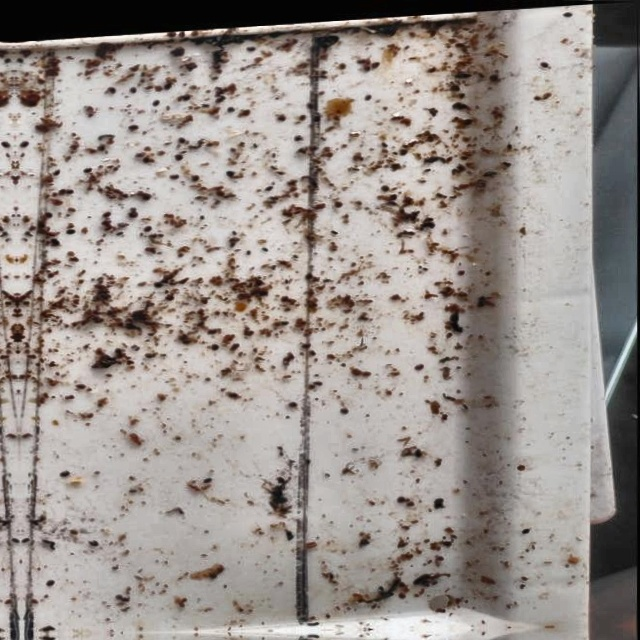varroa: (57, 464, 73, 473), (87, 533, 100, 543), (285, 397, 299, 406), (413, 446, 425, 456), (142, 346, 157, 354), (393, 493, 406, 502), (361, 91, 374, 100), (221, 165, 234, 174), (200, 471, 214, 479), (226, 387, 240, 395), (539, 59, 550, 69), (303, 269, 315, 278), (485, 73, 498, 81), (153, 276, 164, 285), (338, 404, 350, 412), (349, 365, 361, 373), (139, 189, 151, 197), (378, 182, 390, 190), (274, 111, 286, 119), (461, 117, 473, 125), (164, 27, 176, 35), (167, 168, 180, 175), (126, 120, 139, 127), (45, 572, 55, 581), (20, 531, 31, 539), (207, 340, 218, 348), (149, 93, 160, 101), (17, 133, 28, 141), (117, 218, 129, 225), (540, 92, 552, 99), (449, 82, 461, 89), (141, 220, 151, 228), (188, 170, 198, 178), (299, 339, 310, 346), (243, 41, 254, 48), (179, 90, 190, 97), (173, 150, 184, 157), (264, 183, 275, 190), (140, 153, 151, 160), (41, 205, 50, 213), (36, 215, 45, 223), (176, 132, 185, 140), (95, 139, 104, 147), (293, 130, 302, 138), (414, 361, 424, 368), (63, 182, 73, 189), (388, 192, 397, 199), (370, 59, 379, 66), (163, 79, 172, 86), (105, 82, 114, 89), (51, 163, 60, 170), (101, 206, 111, 212), (99, 214, 111, 219), (50, 231, 57, 239), (337, 59, 345, 66), (58, 182, 65, 190), (361, 369, 372, 374), (66, 222, 75, 228), (82, 162, 91, 168), (297, 112, 305, 118), (362, 62, 370, 68), (188, 26, 196, 32), (357, 57, 366, 61), (128, 83, 135, 88), (178, 28, 184, 33)
